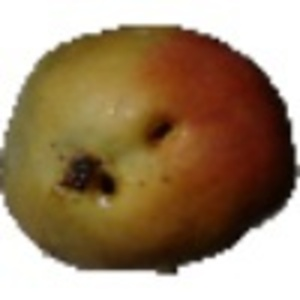mamão: (2, 16, 295, 286)
